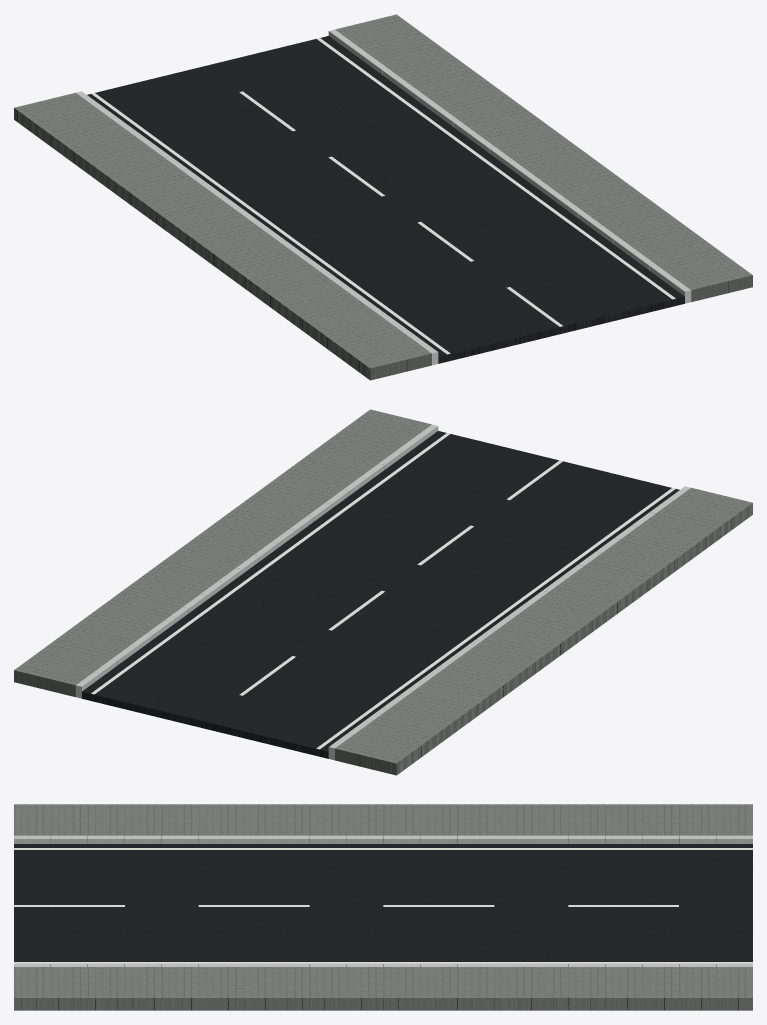
Rendered from RK_Road_Urban_20m.glb.
3 renders of one model, top to bottom at view 1: azimuth 30°, elevation 25°; view 2: azimuth 150°, elevation 25°; view 3: azimuth 270°, elevation 25°, orthographic. The views are drawn at different scales.
Parts seen in each view (by area): view 1: Surface_Asphalt, Sidewalk_Paving, Curb_Concrete, Markings_White; view 2: Surface_Asphalt, Sidewalk_Paving, Curb_Concrete, Markings_White; view 3: Surface_Asphalt, Sidewalk_Paving, Curb_Concrete, Markings_White.
Boxes of the visible parts, <box> form: Surface_Asphalt: <box>87,36,684,363</box>; Sidewalk_Paving: <box>14,14,752,380</box>; Curb_Concrete: <box>76,29,691,365</box>; Markings_White: <box>91,37,675,354</box>; Surface_Asphalt: <box>82,431,679,758</box>; Sidewalk_Paving: <box>14,409,752,775</box>; Curb_Concrete: <box>75,424,690,760</box>; Markings_White: <box>91,432,675,749</box>; Surface_Asphalt: <box>14,844,752,966</box>; Sidewalk_Paving: <box>14,804,752,1010</box>; Curb_Concrete: <box>14,835,752,966</box>; Markings_White: <box>14,848,752,963</box>.
Size of the model in its own units: 12.4 by 0.37 by 20.
Materials: 4 (2 with a texture image).
